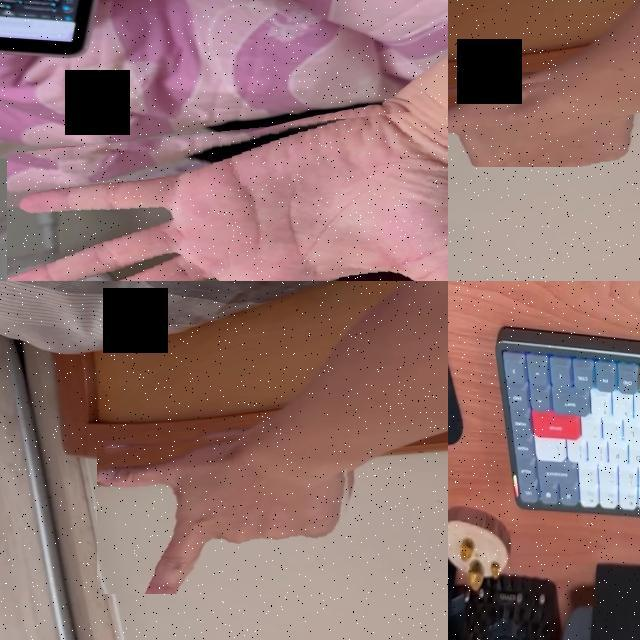keyboard: (498, 336, 640, 517)
